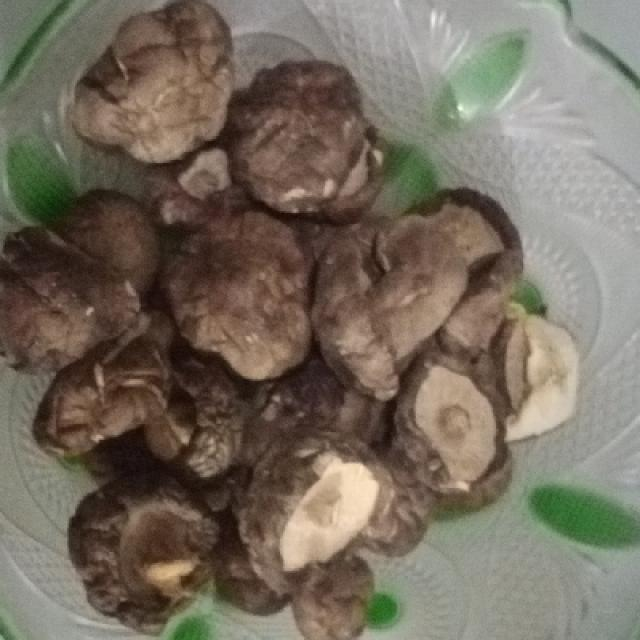Lentinus edodes: (304, 221, 475, 398), (0, 191, 163, 372), (229, 60, 387, 224), (70, 474, 225, 632), (248, 433, 395, 597), (173, 210, 313, 377), (73, 9, 236, 149), (399, 349, 523, 510), (37, 345, 166, 454)
